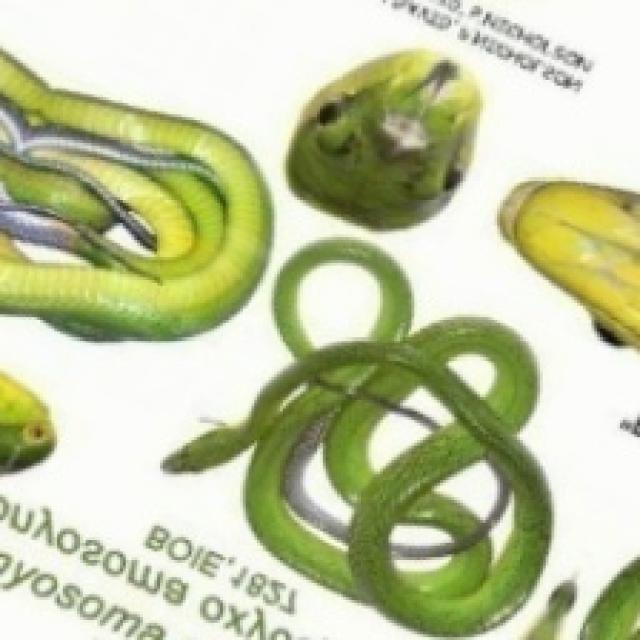red-tailed green ratsnake: (163, 237, 549, 631), (0, 49, 269, 337), (0, 51, 269, 334), (286, 49, 480, 226), (294, 260, 380, 349)
